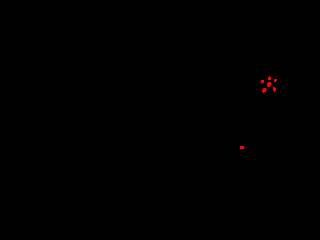Target: (267, 82, 272, 87), (262, 88, 267, 93), (273, 87, 276, 92), (268, 76, 271, 80), (240, 146, 244, 149), (274, 79, 277, 82), (261, 80, 264, 83)
